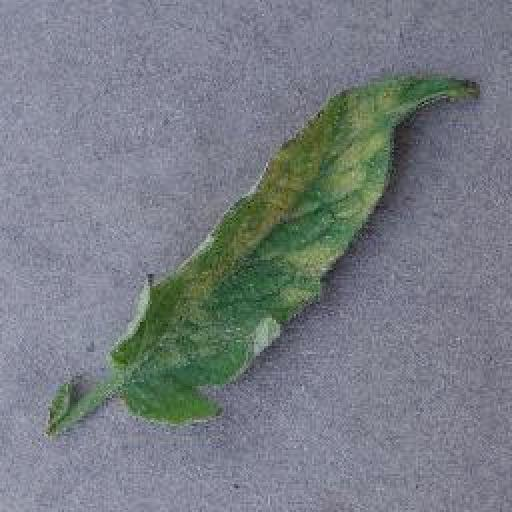disease_tomato: (111, 70, 476, 428)
